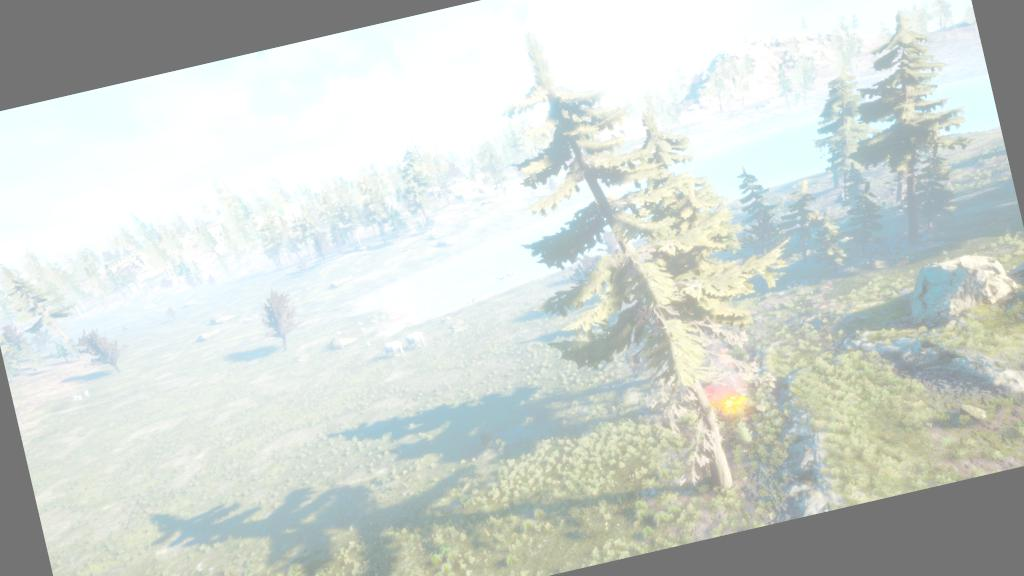Fire: (711, 378, 752, 422)
elephant: (376, 334, 410, 364), (401, 325, 432, 353)
